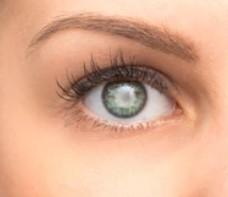eye: (103, 78, 147, 119)
